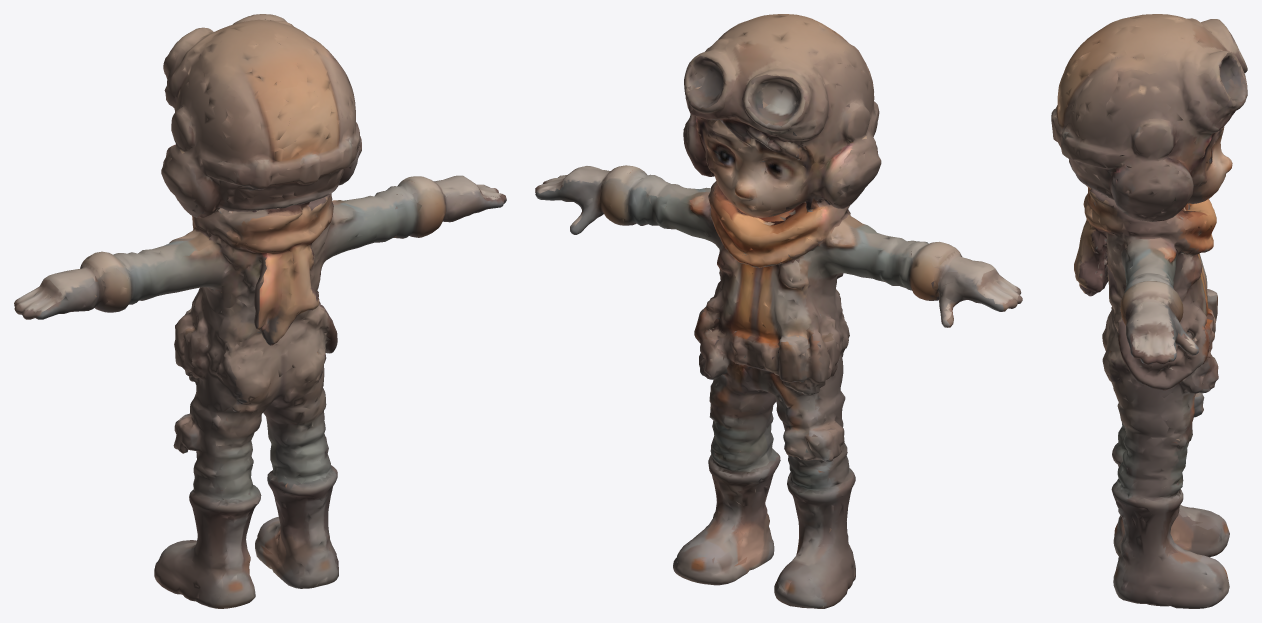
The picture shows the model from 3 angles, left to right: view 1: azimuth 30°, elevation 25°; view 2: azimuth 150°, elevation 25°; view 3: azimuth 270°, elevation 25°; orthographic projection.
Parts seen in each view (by area): view 1: Mesh_0; view 2: Mesh_0; view 3: Mesh_0.
Boxes of the visible parts, bbox=[...] form: Mesh_0: bbox=[14, 14, 506, 608]; Mesh_0: bbox=[535, 14, 1022, 608]; Mesh_0: bbox=[1051, 14, 1247, 608].
Size of the model in its own units: 1.83 by 2 by 0.6479.
Materials: 1 (1 with a texture image).
